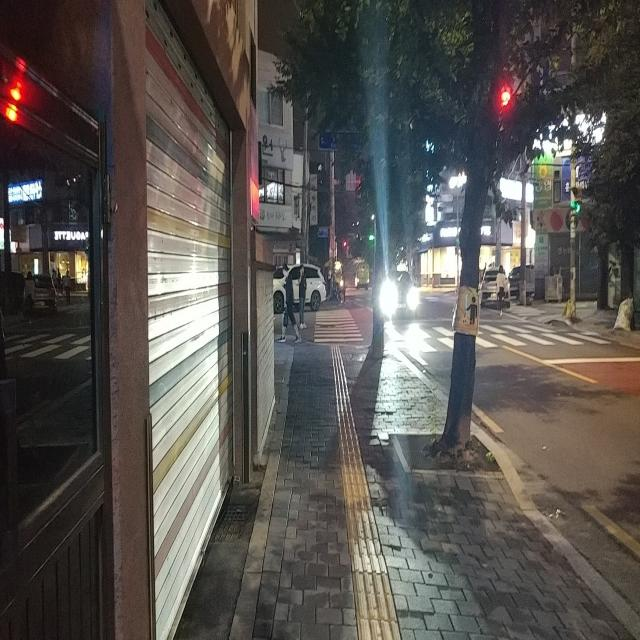횡단보도: (388, 320, 604, 347), (313, 308, 364, 344)
